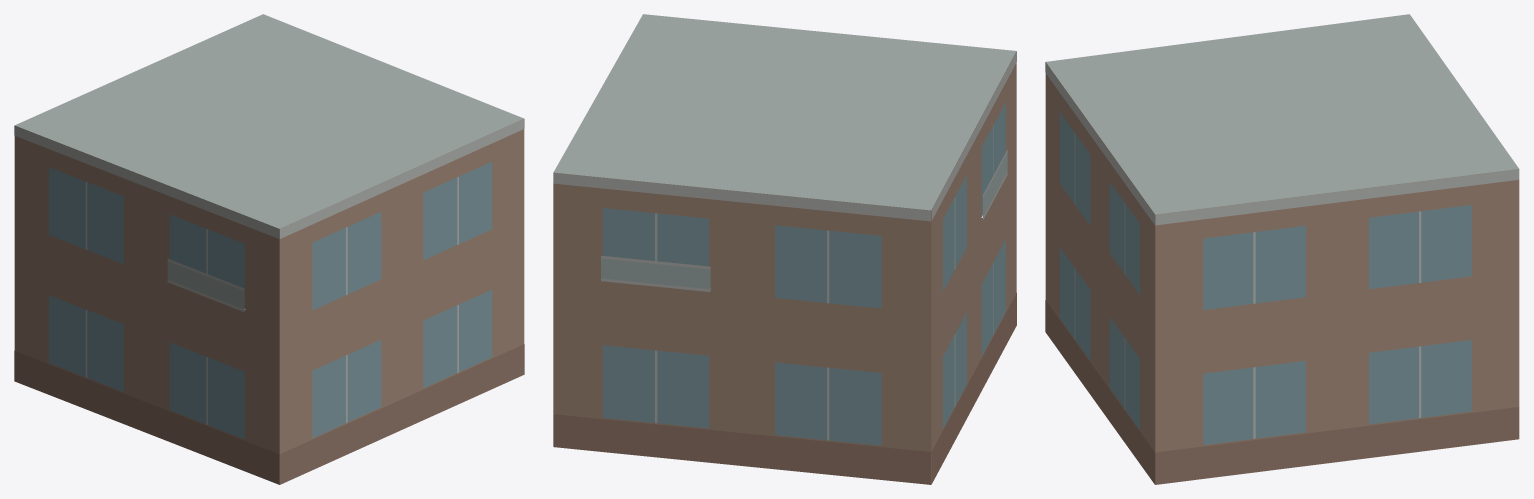
File: survey-upis-32671591.glb
3 views of the same model, side by side, from view 1: azimuth 30°, elevation 25°; view 2: azimuth 150°, elevation 25°; view 3: azimuth 270°, elevation 25° (orthographic). The views are drawn at different scales.
Parts seen in each view (by area): view 1: survey-upis-32671591.tmp; view 2: survey-upis-32671591.tmp; view 3: survey-upis-32671591.tmp.
Part boxes in pixels (x1,y1,x2,y2): survey-upis-32671591.tmp: (14,14,524,484); survey-upis-32671591.tmp: (553,14,1016,484); survey-upis-32671591.tmp: (1045,14,1519,484).
Size of the model in its own units: 9.72 by 6.1 by 9.7.
